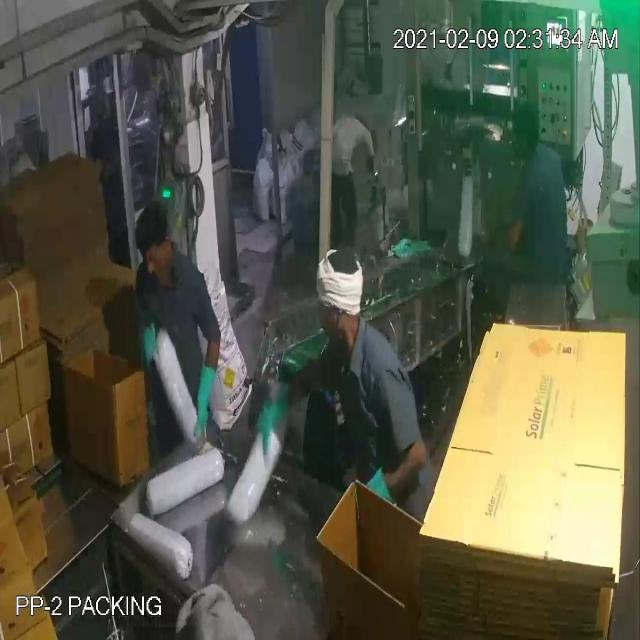Gloves: (32, 65, 275, 414)
